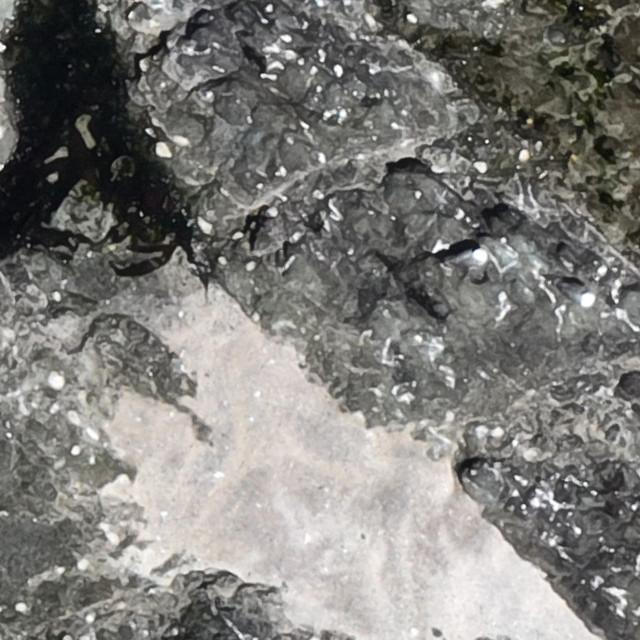umineko: (562, 282, 597, 309), (449, 248, 488, 268)
